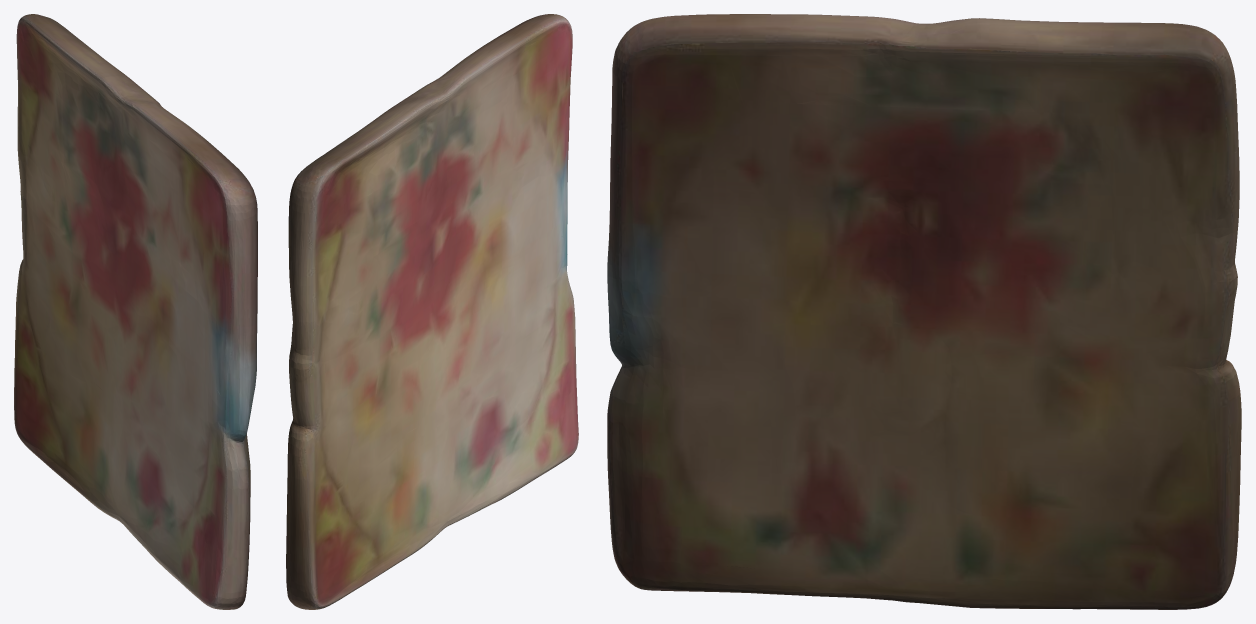
File: large_patterned_mattress_leaning_against_wall_000.glb
3 renders of one model, left to right at view 1: azimuth 30°, elevation 25°; view 2: azimuth 150°, elevation 25°; view 3: azimuth 270°, elevation 25°, orthographic. The views are drawn at different scales.
Visible parts, largest first — view 1: phase2_final_large_patterned_mattress_leaning_against_wall_0; view 2: phase2_final_large_patterned_mattress_leaning_against_wall_0; view 3: phase2_final_large_patterned_mattress_leaning_against_wall_0.
Part boxes in pixels (left/top/right/bottom): phase2_final_large_patterned_mattress_leaning_against_wall_0: left=14, top=14, right=257, bottom=609; phase2_final_large_patterned_mattress_leaning_against_wall_0: left=286, top=14, right=578, bottom=609; phase2_final_large_patterned_mattress_leaning_against_wall_0: left=607, top=14, right=1241, bottom=609.
Bounding box in the file's own units: 0.1219 × 0.8198 × 0.82.
Materials: 1 (1 with a texture image).
